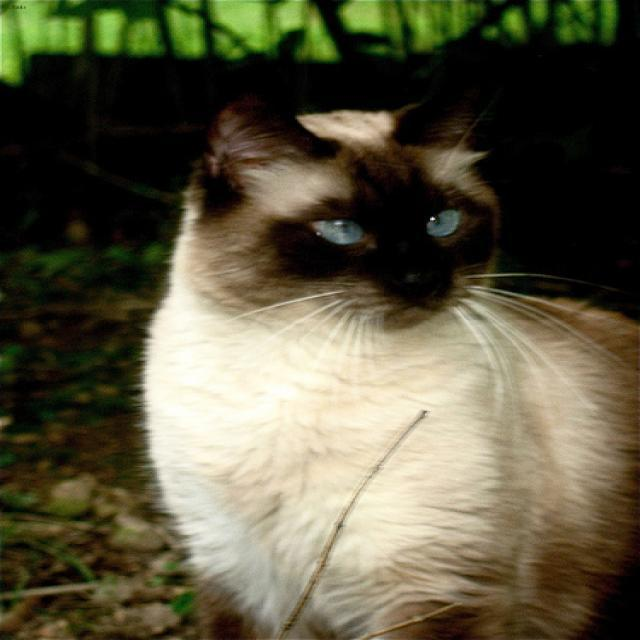Siamese: (174, 40, 532, 344)
